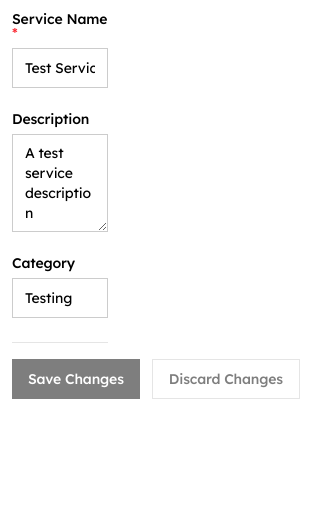
Scenario: ServiceMetadataForm › Form Submission › displays success message after successful update
Replace the text in the field labelled "Service Name *" with "Updated Service" at (60, 68), box top-left (12, 48), bottom-right (108, 88)
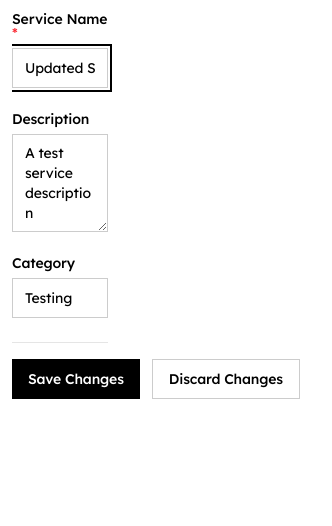
Click the button "Save Changes" at (76, 379), box top-left (12, 359), bottom-right (140, 399)
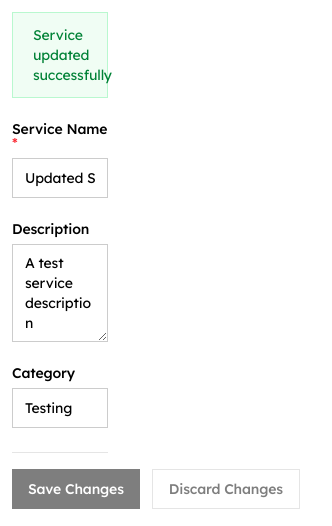
Check: the text "Service updated successfully" is shown, box top-left (12, 12), bottom-right (108, 98)
